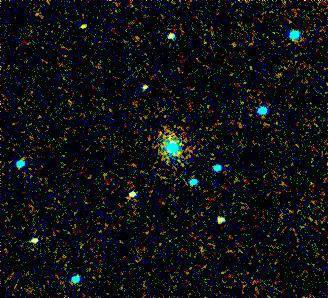star: (67, 12, 97, 42)
